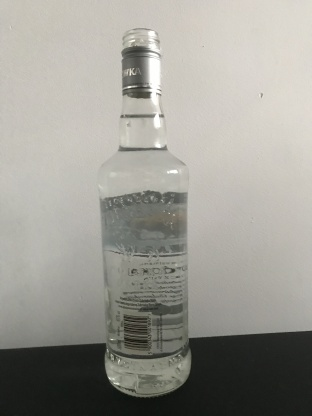nakretka: (120, 25, 162, 98)
